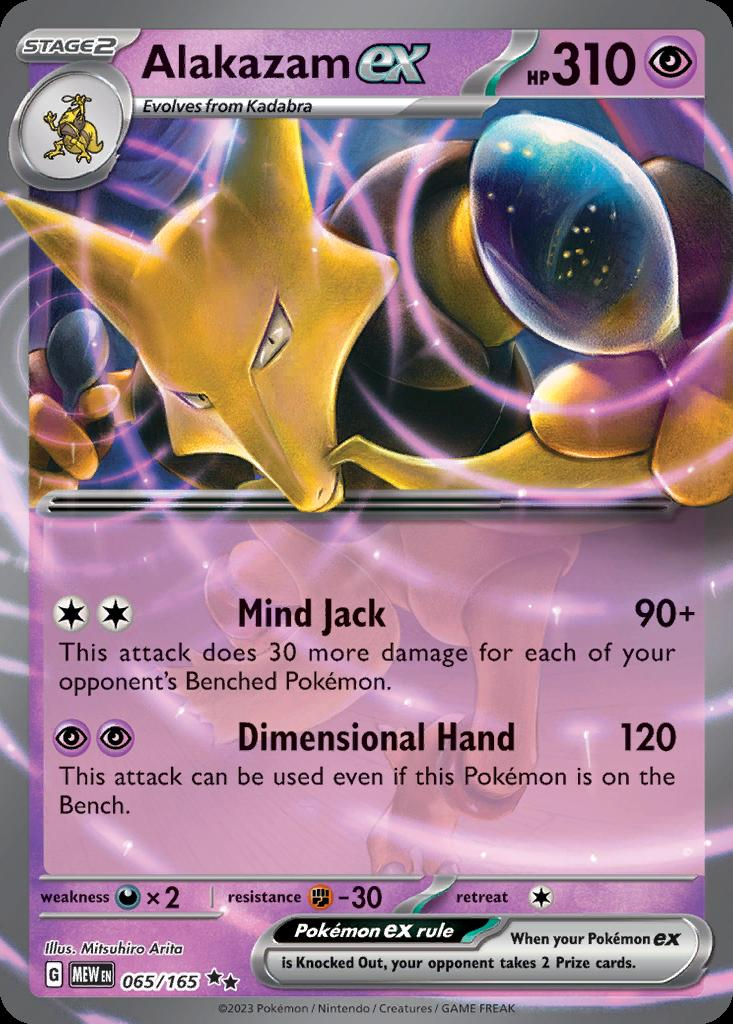card: (7, 4, 733, 1024)
hp: (501, 31, 710, 96)
name: (131, 34, 451, 97)
set num: (117, 964, 246, 1000)
set symbol: (47, 961, 116, 997)
